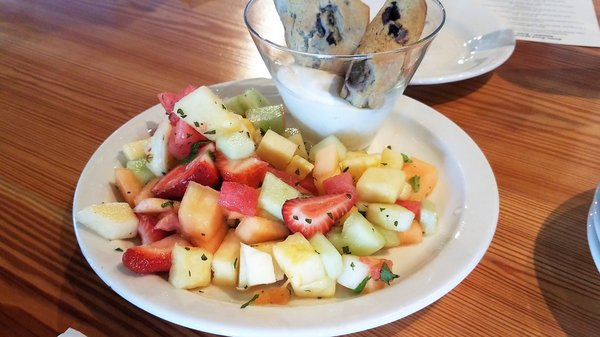pizza: (242, 0, 447, 147)
